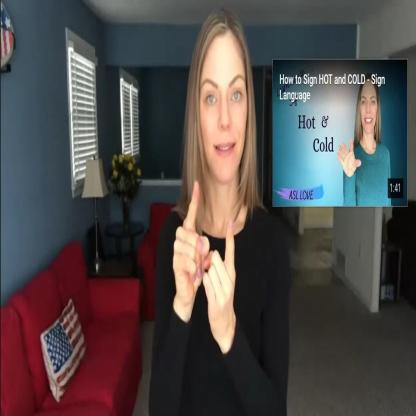NiceToMeetYou: (148, 8, 290, 416)
